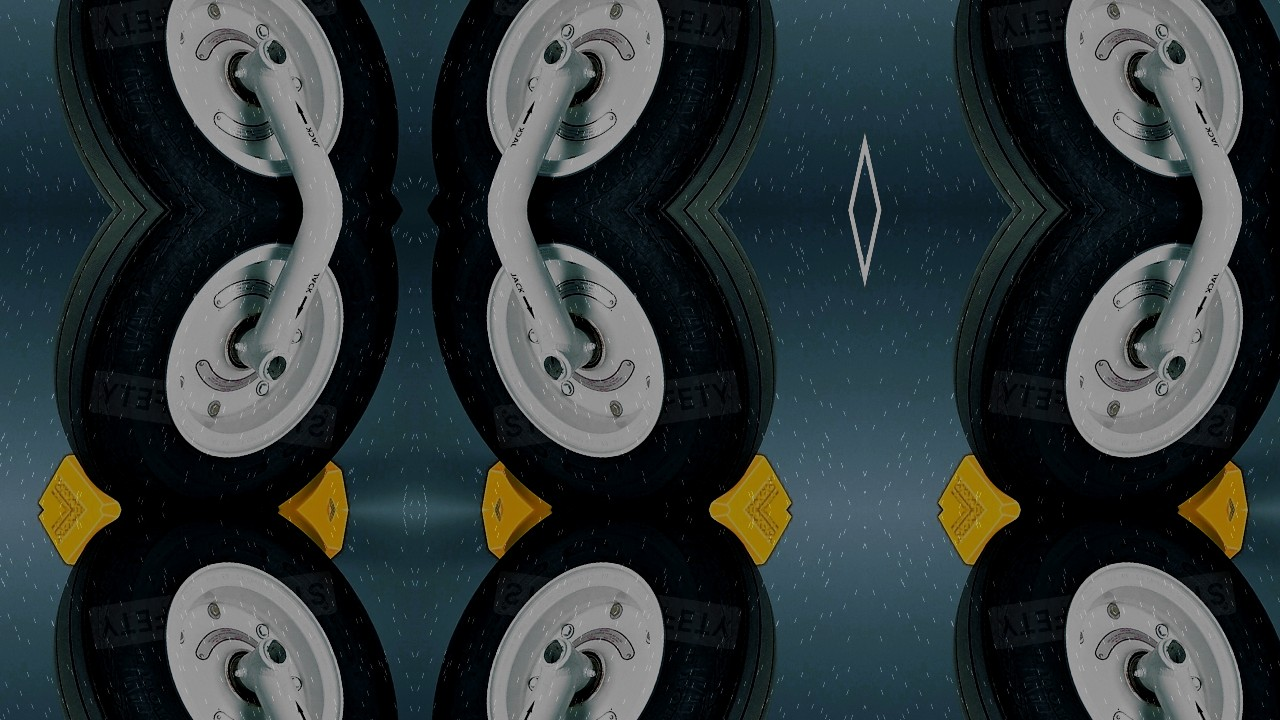chock: (26, 449, 164, 510), (666, 449, 804, 510), (926, 449, 1064, 510), (26, 510, 164, 571), (666, 510, 804, 571), (926, 510, 1064, 571), (274, 451, 357, 510), (473, 451, 556, 510), (1174, 451, 1257, 510), (274, 510, 357, 569), (473, 510, 556, 569), (1174, 510, 1257, 569)
wheel: (16, 210, 413, 510), (417, 210, 814, 510), (916, 210, 1280, 510), (16, 0, 413, 210), (417, 0, 814, 210), (16, 510, 413, 720), (417, 510, 814, 720), (916, 0, 1280, 210), (916, 510, 1280, 720)
